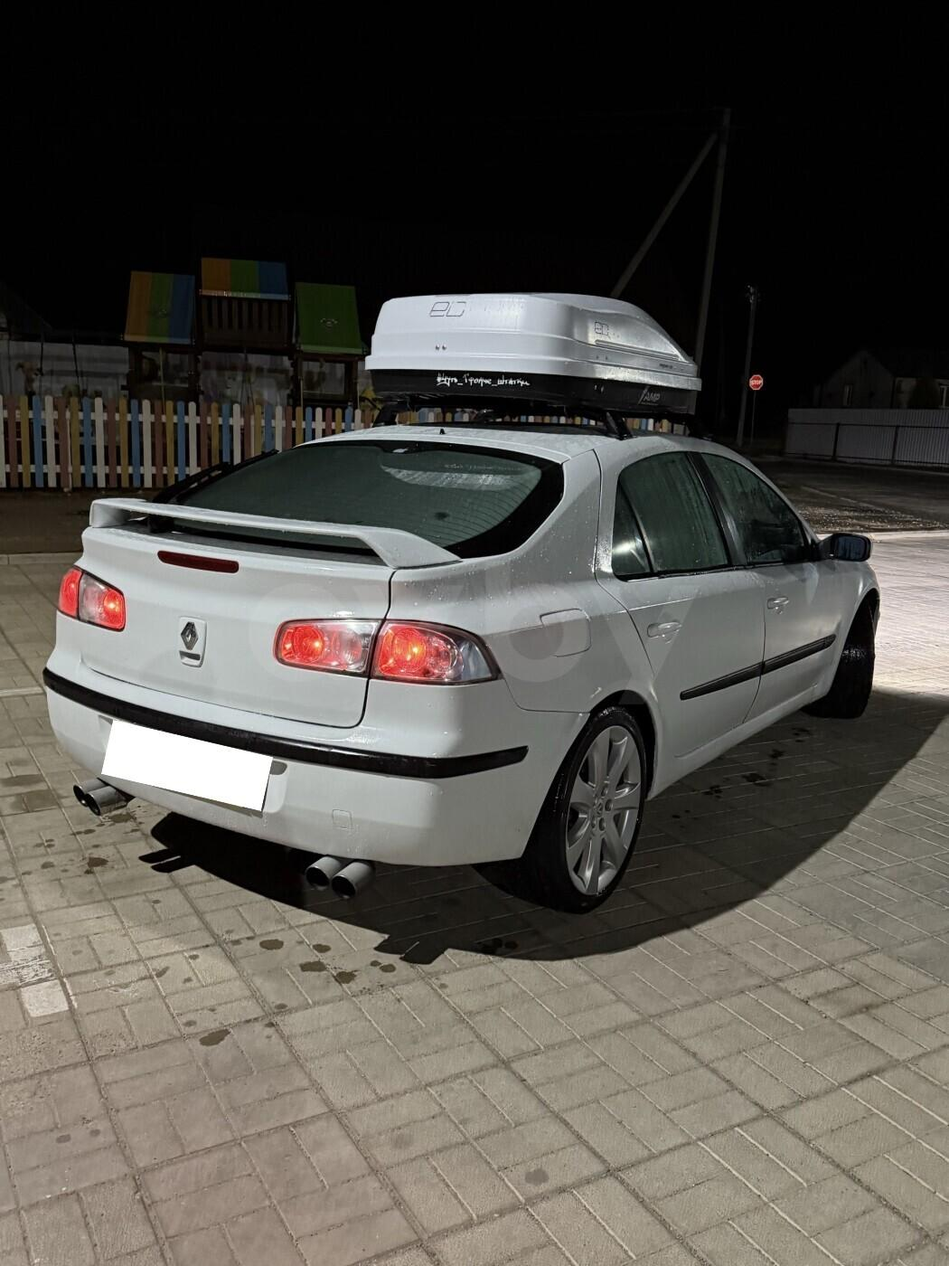Laguna_2001-2005: (43, 295, 879, 912)
